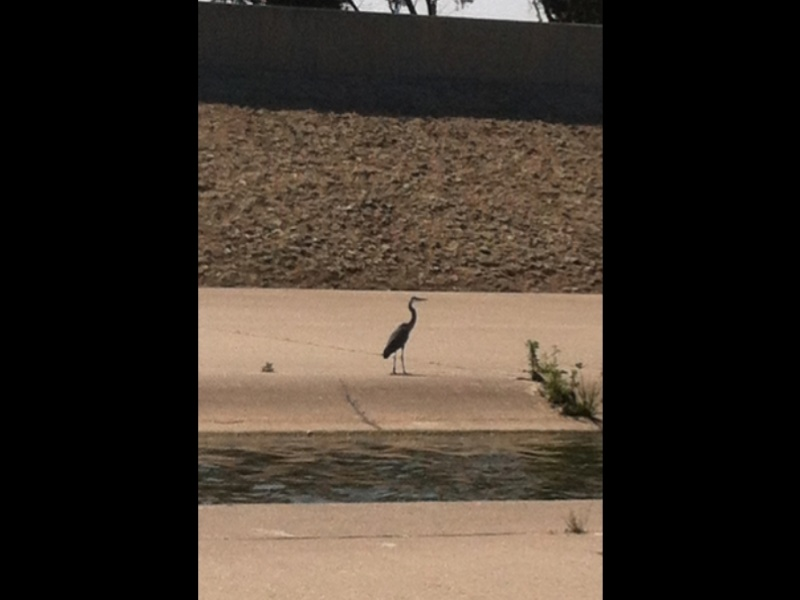heron: (381, 294, 429, 375)
